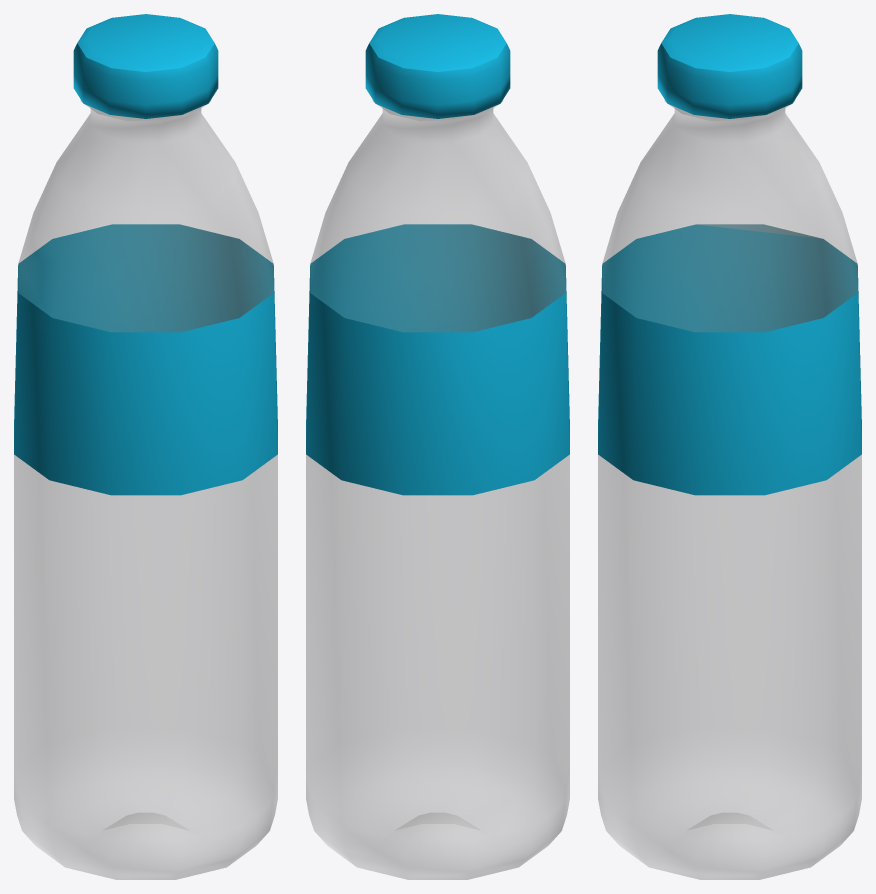
The model's file is SM_Water_Bottle.fbx.
3 views of the same model, side by side, from view 1: azimuth 30°, elevation 25°; view 2: azimuth 150°, elevation 25°; view 3: azimuth 270°, elevation 25° (orthographic).
Parts seen in each view (by area): view 1: Bottle; view 2: Bottle; view 3: Bottle.
Part boxes in pixels (box(x1,y1,x2,y2)): Bottle: box(14, 14, 277, 879); Bottle: box(306, 14, 569, 879); Bottle: box(598, 14, 861, 879).
Bounding box in the file's own units: 0.065 × 0.22 × 0.065.
